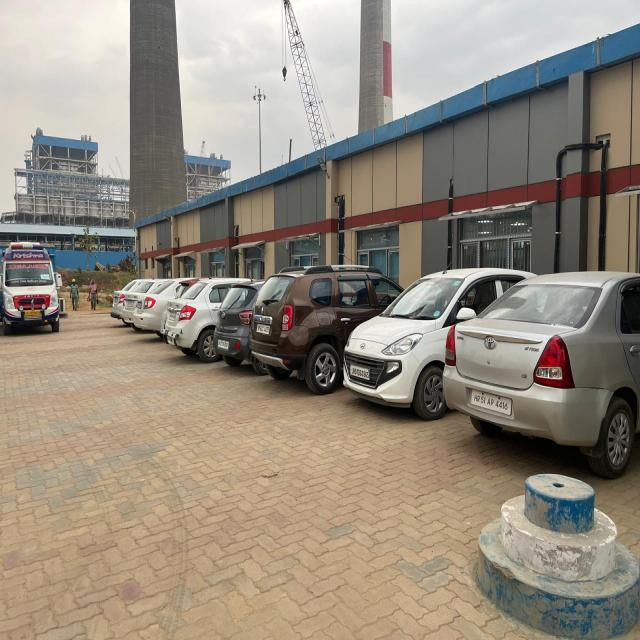car: (441, 254, 639, 493), (343, 253, 481, 426), (254, 264, 408, 403), (212, 275, 267, 372), (163, 275, 223, 360)
